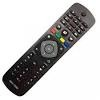remote control: (1, 5, 100, 100)
